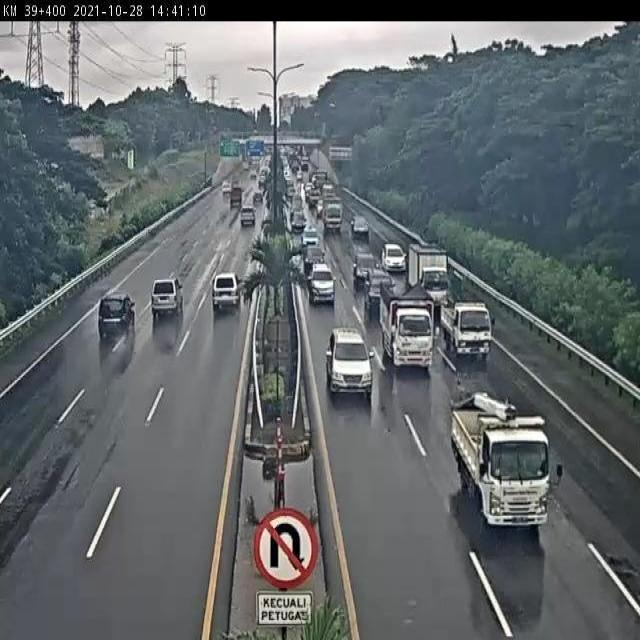Bus: (323, 201, 343, 233)
Car: (324, 327, 372, 399), (98, 294, 136, 339), (362, 268, 393, 317), (151, 278, 184, 321), (306, 263, 334, 306), (211, 272, 241, 312), (352, 250, 377, 292), (302, 245, 326, 278), (381, 243, 407, 273), (351, 217, 370, 240), (302, 226, 319, 247), (291, 212, 306, 234), (240, 206, 255, 227), (222, 181, 231, 196)
Truck: (451, 398, 565, 536), (380, 278, 438, 373), (439, 300, 492, 360), (408, 242, 448, 298)
